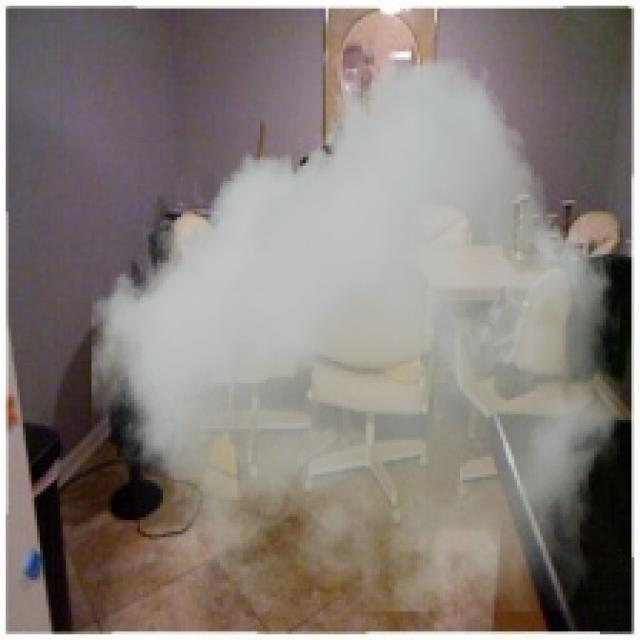Smoke: (91, 57, 620, 612)
